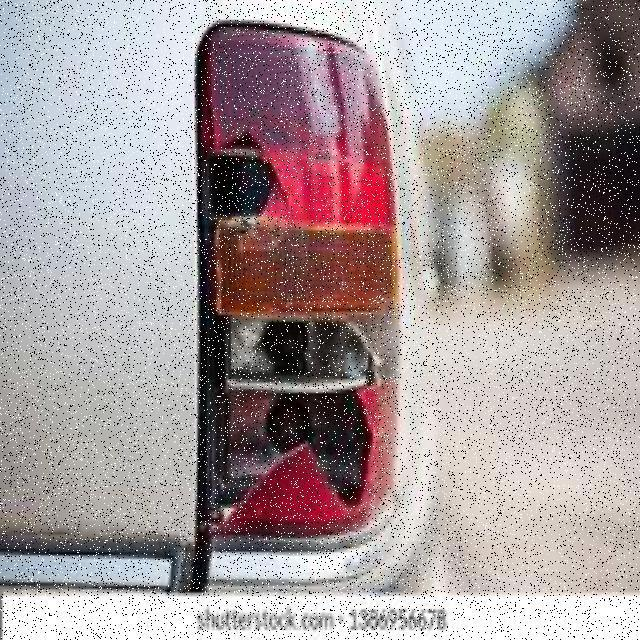Taillight-Damage: (190, 10, 419, 579)
